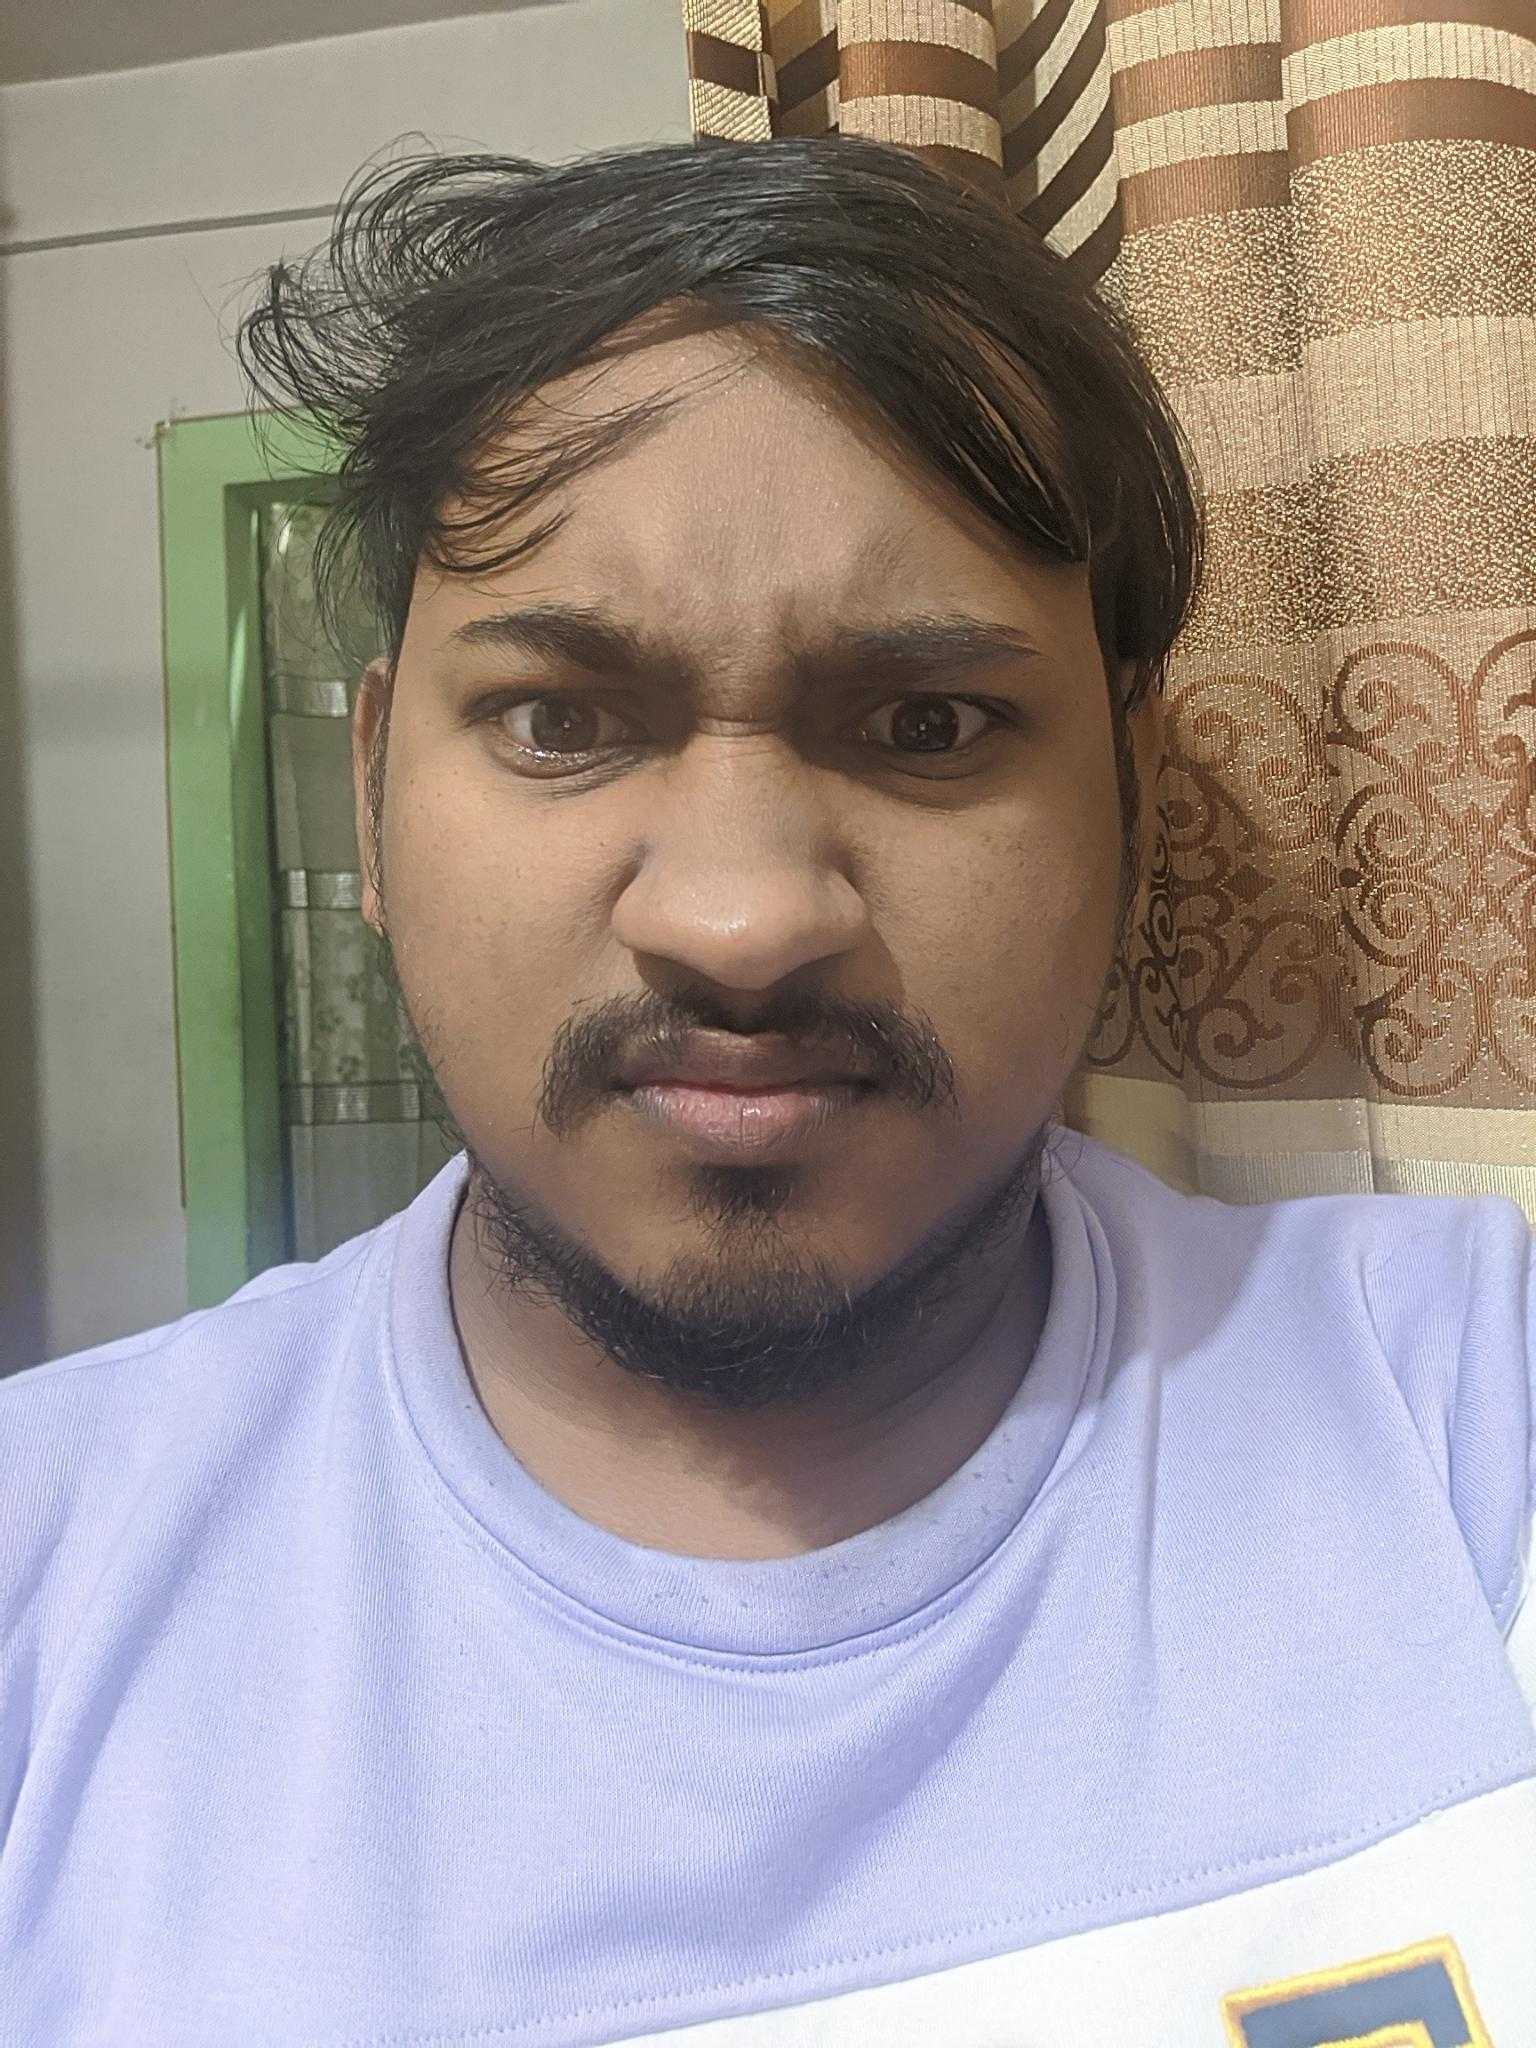Angry: (360, 460, 1170, 1376)
